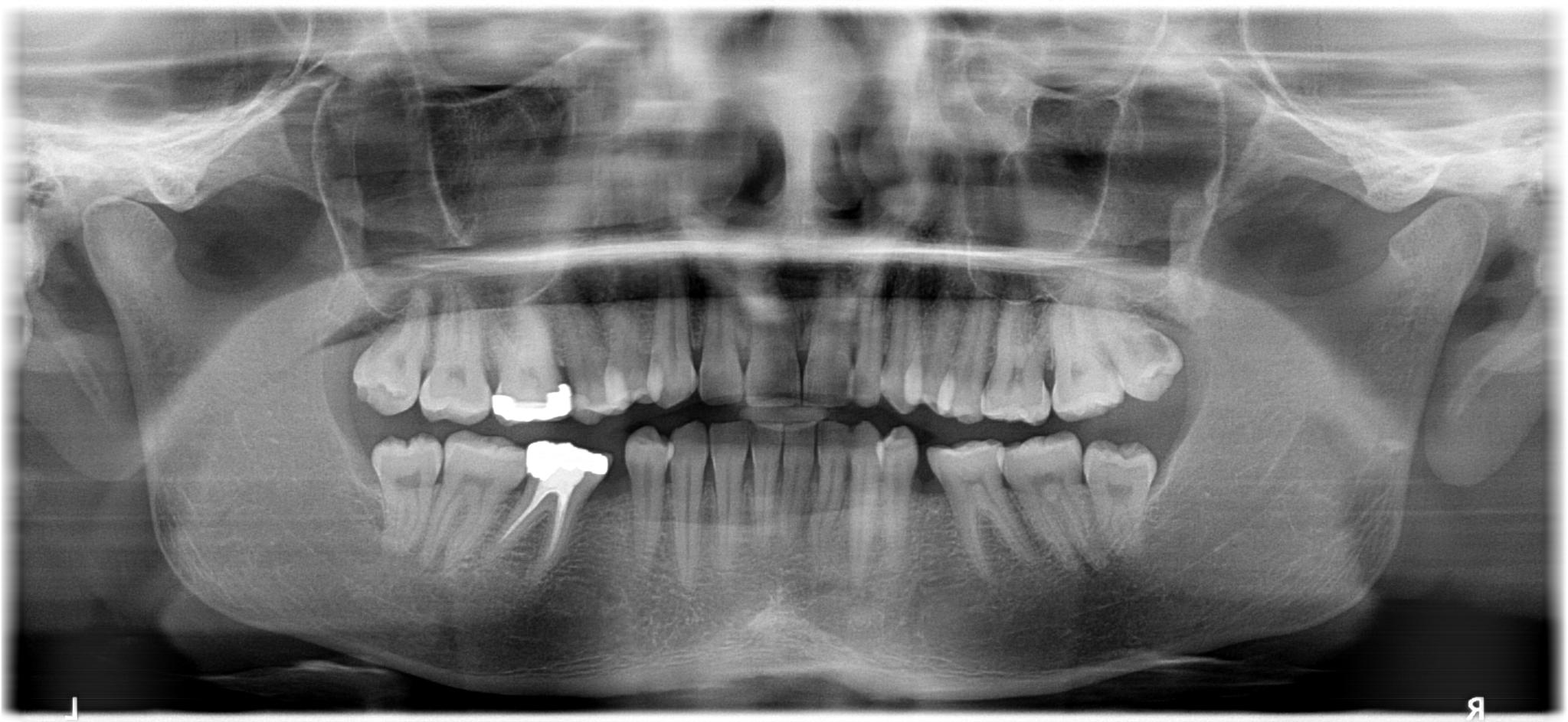Premolars: (571, 216, 1568, 656), (526, 212, 1568, 594), (601, 181, 1568, 518)
